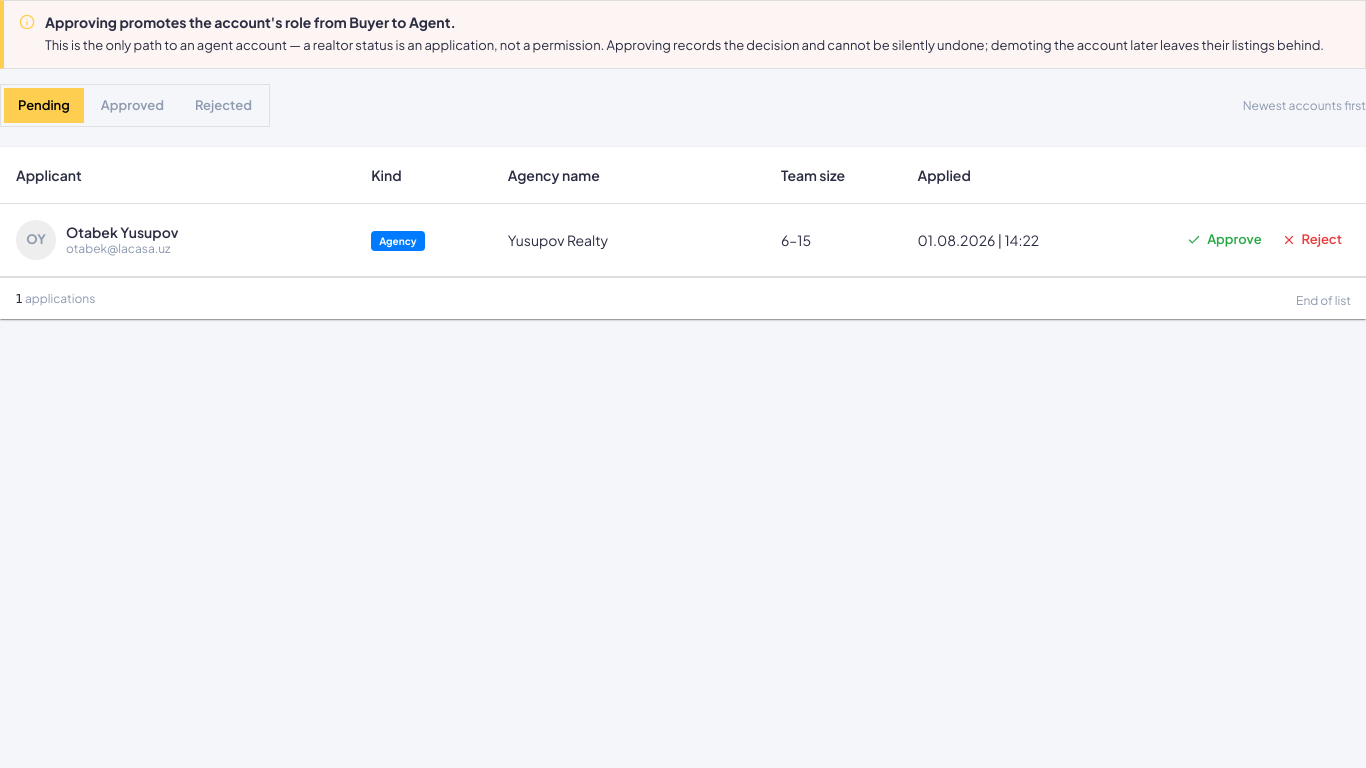
Scenario: ApplicationsScreen — confirming a decision › cancels without touching the account
Click the button with aria-label "Approve Otabek Yusupov": click(1224, 240) [1179,224,1270,255]
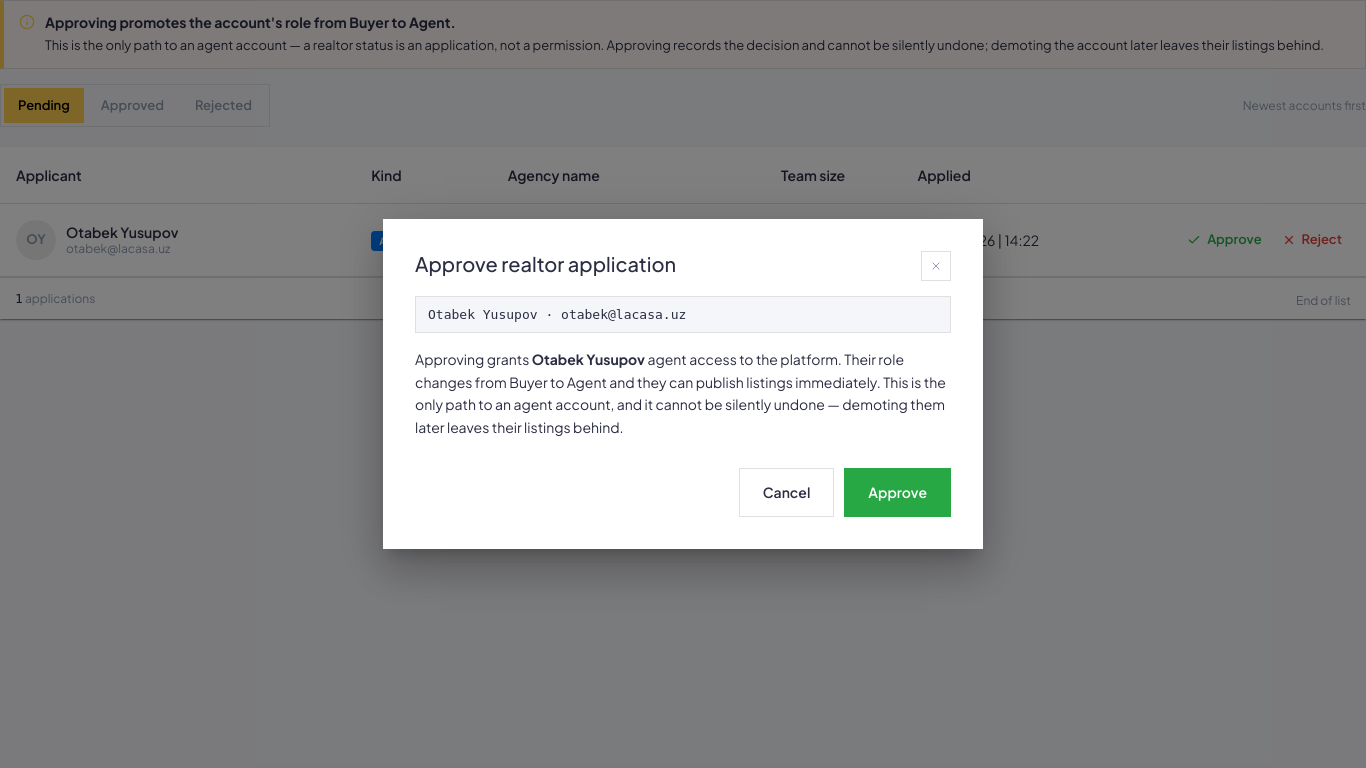
Click the button "Cancel": click(787, 492) [739,468,834,516]
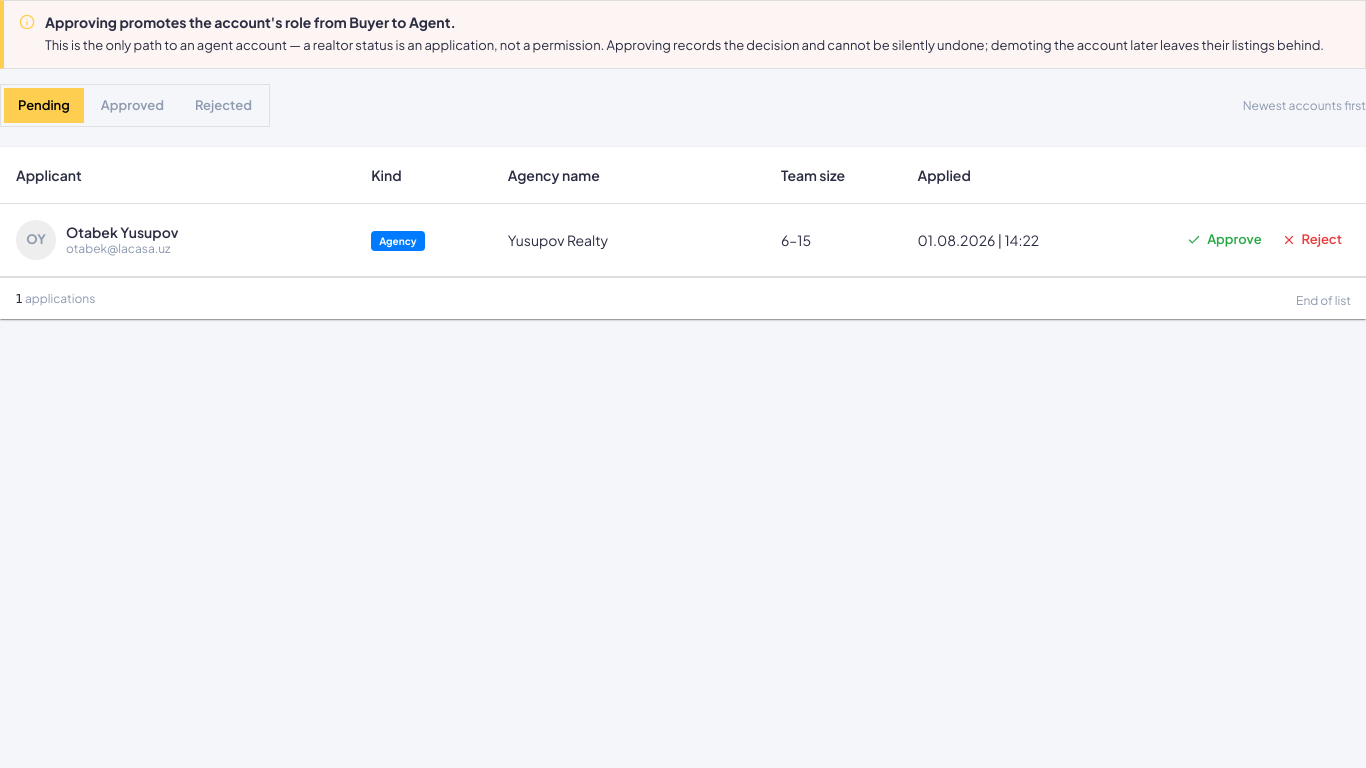
Check: the dialog is gone
